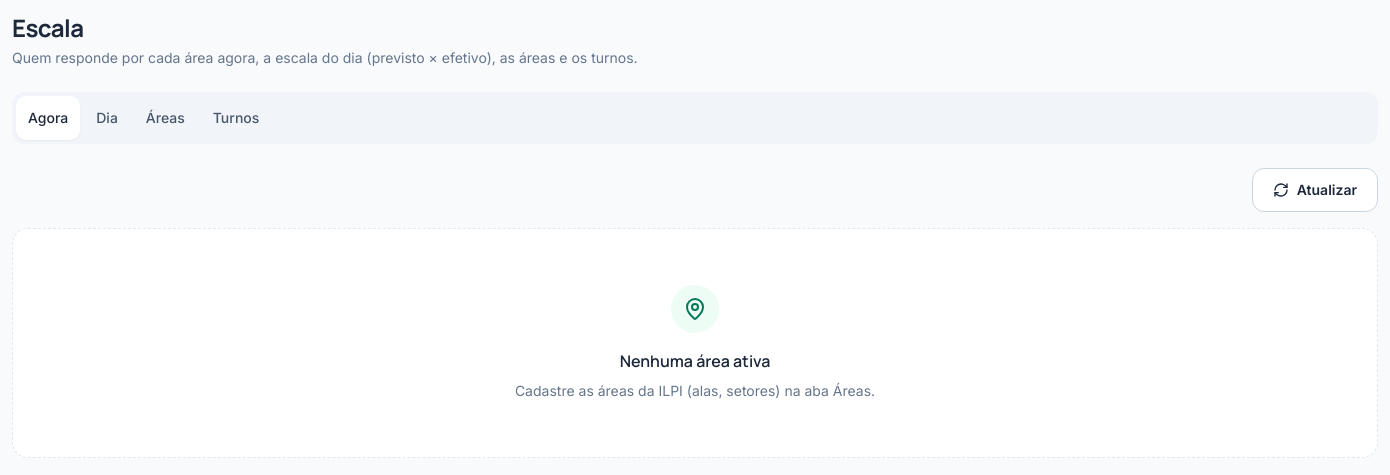
Test: Escala (#120) › Turnos: sem escala:gerenciar só lista
Click the tab "Turnos" at (236, 118), box [201, 96, 271, 140]
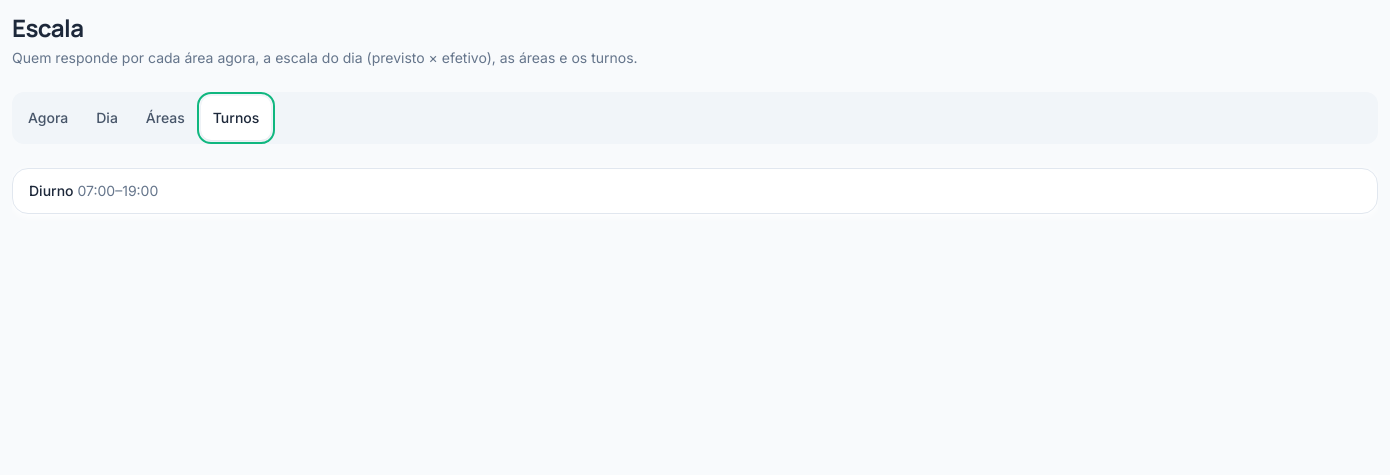
Result: the text "Diurno" is shown at [29, 182, 74, 199]
Result: the text "07:00–19:00" is shown at [78, 182, 158, 199]
